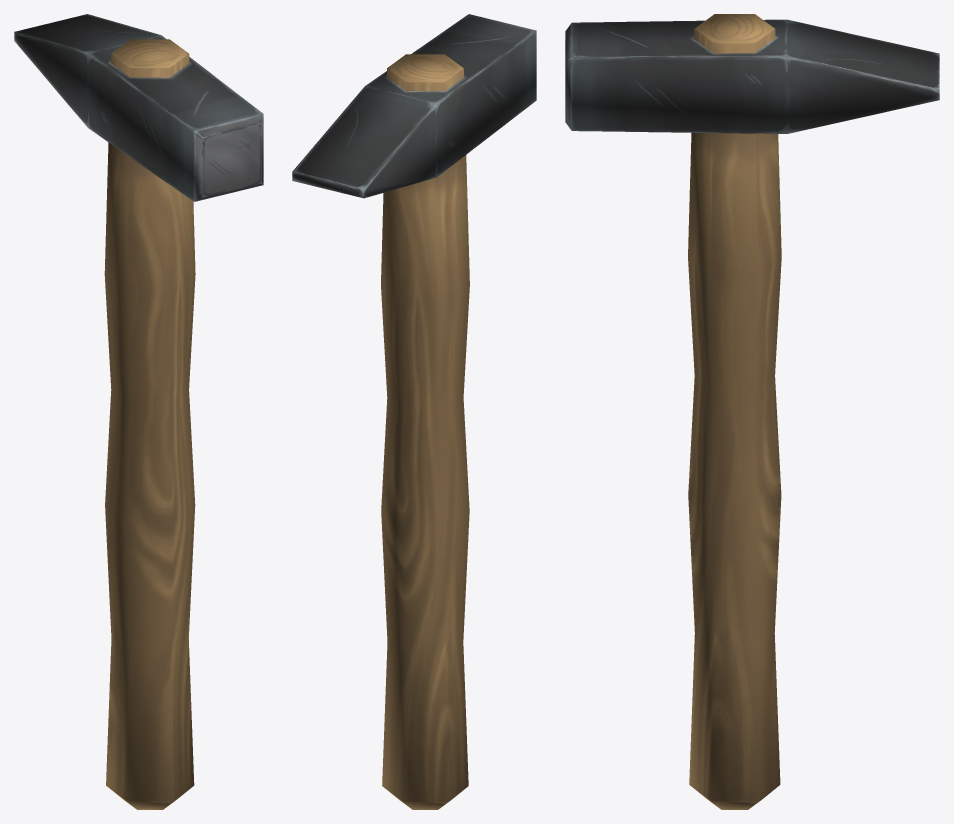
The model's file is hammer.FBX.
3 renders of one model, left to right at view 1: azimuth 30°, elevation 25°; view 2: azimuth 150°, elevation 25°; view 3: azimuth 270°, elevation 25°, orthographic. The views are drawn at different scales.
Parts seen in each view (by area): view 1: hammer_190412; view 2: hammer_190412; view 3: hammer_190412.
Boxes of the visible parts, x1=… form: hammer_190412: x1=14, y1=14, x2=263, y2=809; hammer_190412: x1=292, y1=14, x2=536, y2=809; hammer_190412: x1=565, y1=14, x2=939, y2=809.
Size of the model in its own units: 3.45 by 33.64 by 14.81.
1 material, 1 textured.
